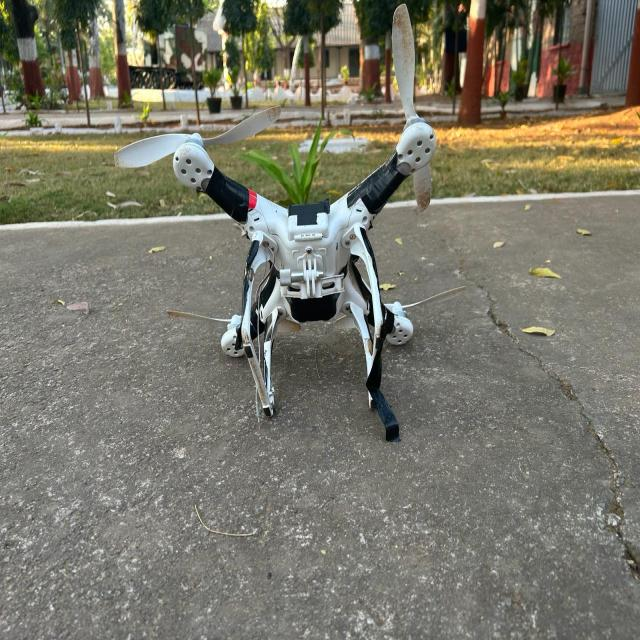drone: (52, 55, 538, 454)
